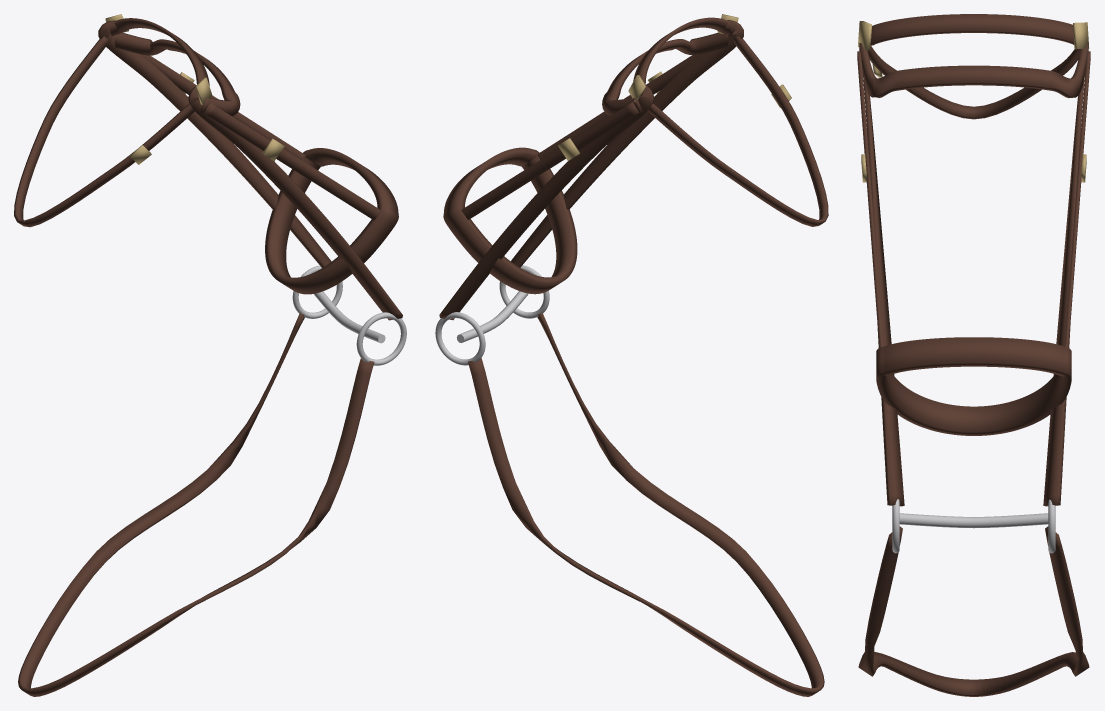
Rendered from bridle.glb.
The picture shows the model from 3 angles, left to right: view 1: azimuth 30°, elevation 25°; view 2: azimuth 150°, elevation 25°; view 3: azimuth 270°, elevation 25°; orthographic projection. The views are drawn at different scales.
Visible parts, largest first — view 1: Повід, Нащічні_ремені, Капсуль, Підгорлий_ремінь, Ремінь_капсуля_Л, Налобний_ремінь, Ремінь_капсуля_П, Пряжки_Вуздечка, Кільце_Л, Вудило; view 2: Повід, Нащічні_ремені, Капсуль, Підгорлий_ремінь, Ремінь_капсуля_П, Налобний_ремінь, Ремінь_капсуля_Л, Кільце_П, Пряжки_Вуздечка, Вудило; view 3: Капсуль, Нащічні_ремені, Повід, Налобний_ремінь, Підгорлий_ремінь, Вудило, Ремінь_капсуля_Л, Ремінь_капсуля_П, Пряжки_Вуздечка, Кільце_Л, Кільце_П.
Part boxes in pixels (<box>): Повід: <box>18,313,374,696</box>; Нащічні_ремені: <box>98,18,402,320</box>; Капсуль: <box>265,148,398,294</box>; Підгорлий_ремінь: <box>14,36,196,227</box>; Ремінь_капсуля_Л: <box>203,102,380,220</box>; Налобний_ремінь: <box>114,33,240,116</box>; Ремінь_капсуля_П: <box>140,54,305,159</box>; Пряжки_Вуздечка: <box>105,14,284,164</box>; Кільце_Л: <box>356,312,406,365</box>; Вудило: <box>314,291,385,343</box>; Повід: <box>468,313,824,696</box>; Нащічні_ремені: <box>439,17,743,320</box>; Капсуль: <box>443,147,577,294</box>; Підгорлий_ремінь: <box>648,36,828,226</box>; Ремінь_капсуля_П: <box>461,102,638,219</box>; Налобний_ремінь: <box>602,33,728,115</box>; Ремінь_капсуля_Л: <box>537,53,702,159</box>; Кільце_П: <box>435,312,485,365</box>; Пряжки_Вуздечка: <box>558,14,791,160</box>; Вудило: <box>456,291,528,342</box>; Капсуль: <box>876,337,1071,435</box>; Нащічні_ремені: <box>862,14,1085,506</box>; Повід: <box>858,526,1089,696</box>; Налобний_ремінь: <box>859,43,1088,98</box>; Підгорлий_ремінь: <box>867,46,1080,119</box>; Вудило: <box>899,513,1048,528</box>; Ремінь_капсуля_Л: <box>857,51,883,347</box>; Ремінь_капсуля_П: <box>1064,51,1090,347</box>; Пряжки_Вуздечка: <box>857,21,1089,182</box>; Кільце_Л: <box>892,499,899,553</box>; Кільце_П: <box>1048,499,1055,553</box>.
Bounding box in the file's own units: 0.5348 × 0.9001 × 0.2486.
